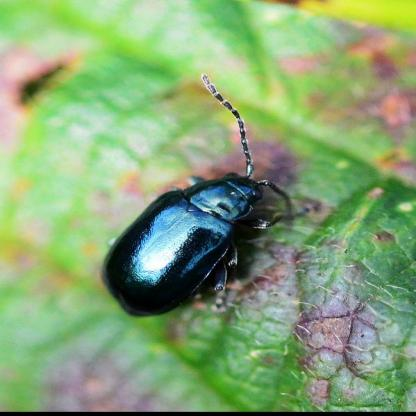beetle: (90, 67, 326, 337)
